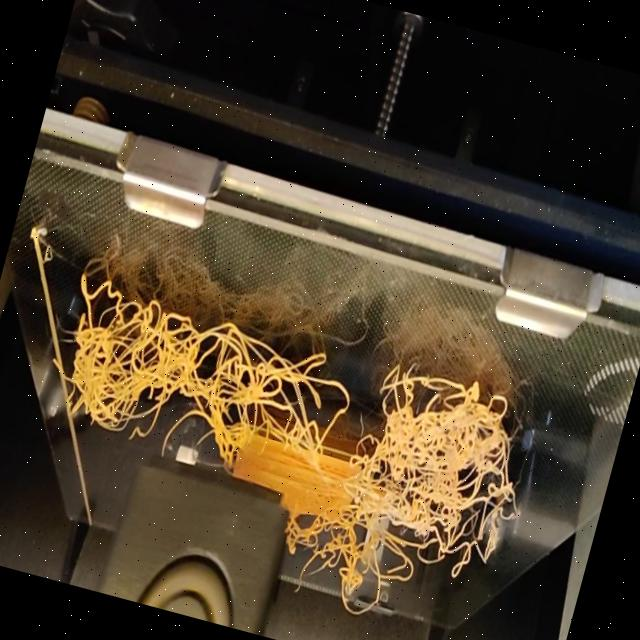spaghetti: (35, 262, 558, 553), (264, 485, 497, 640)
